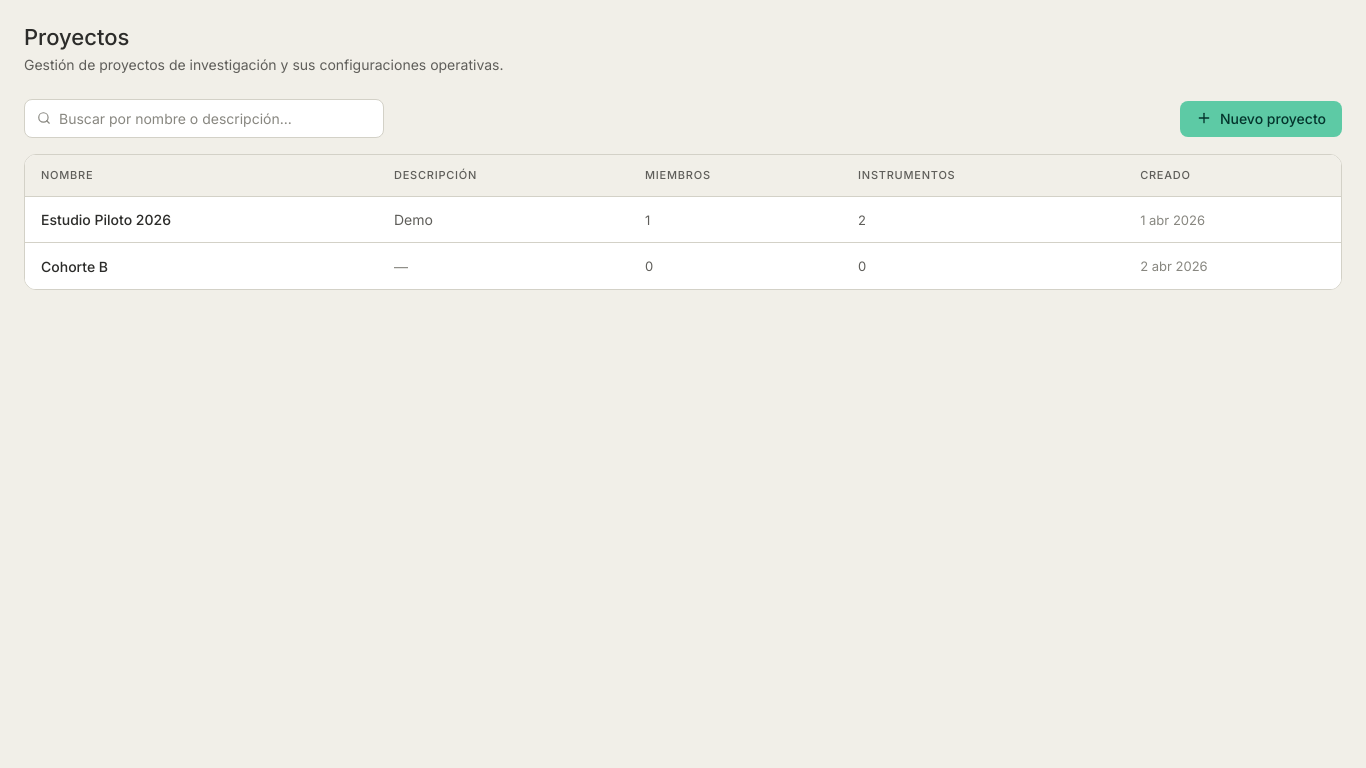
Test: ProjectsPage › POST 400 → muestra error, modal no cierra
expect the text "Estudio Piloto 2026" is shown: met, box top-left (41, 211), bottom-right (171, 228)
Click the button "Nuevo proyecto".
click(1261, 119)  # box top-left (1180, 101), bottom-right (1342, 137)
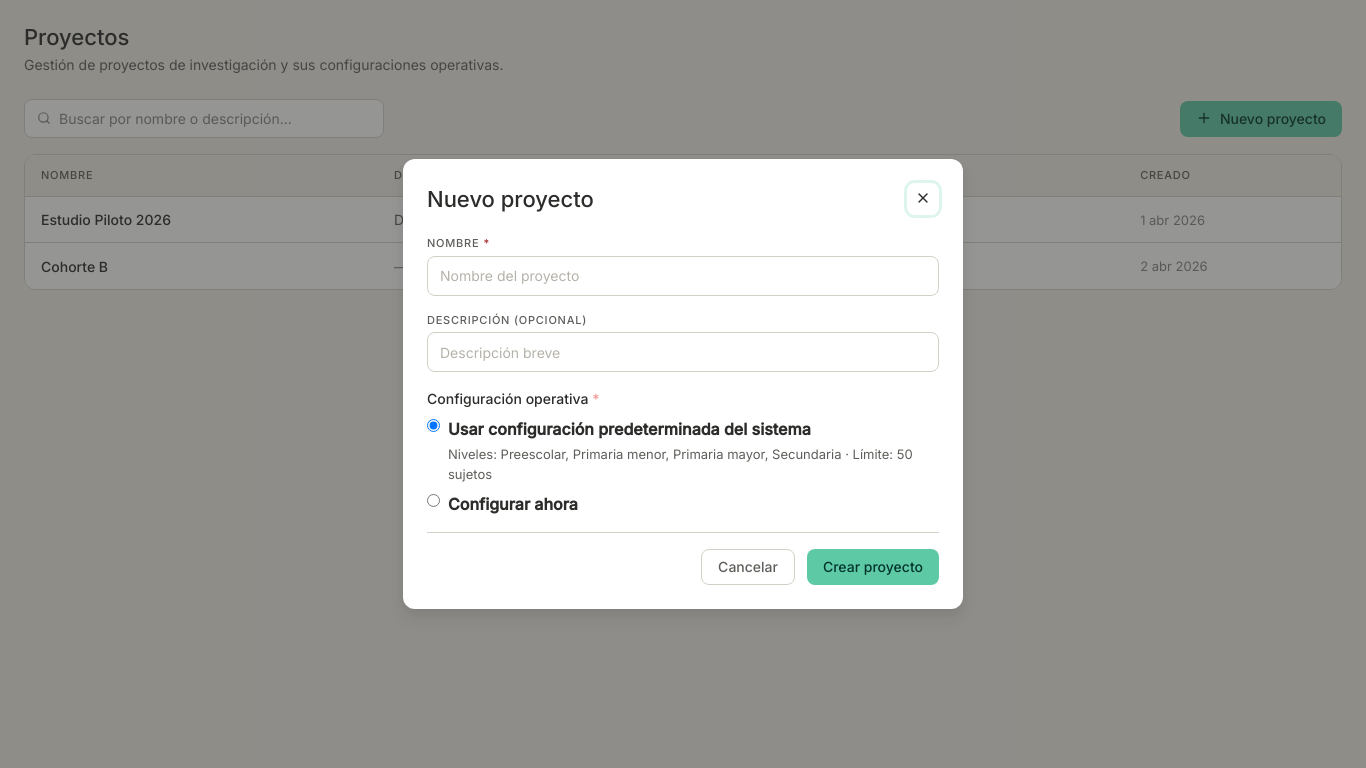
expect the dialog is shown: met, box top-left (403, 159), bottom-right (963, 609)
Type "X" into the field labelled "Nombre*".
click(683, 276); type("X")  # box top-left (427, 256), bottom-right (939, 296)
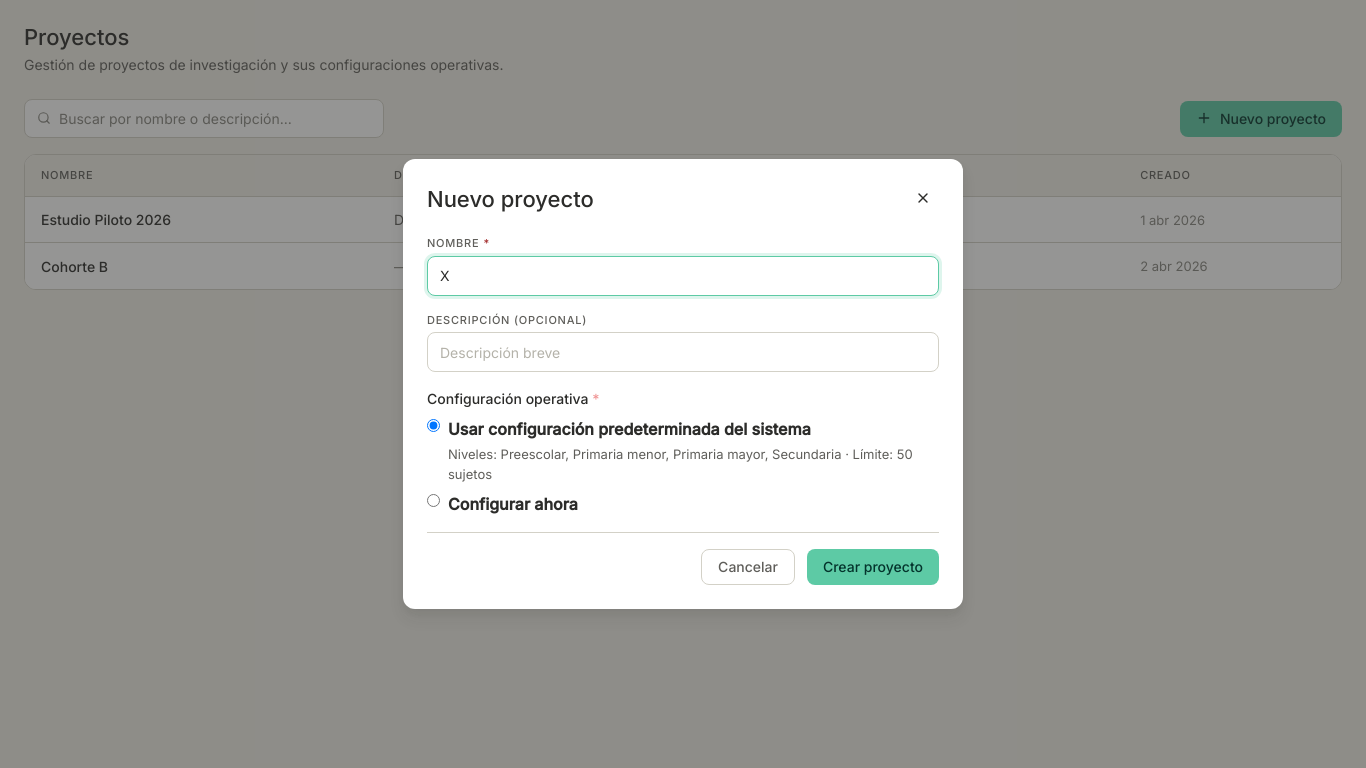
Click the radio button labelled "Usar configuración predeterminada".
click(434, 426)  # box top-left (427, 419), bottom-right (440, 432)
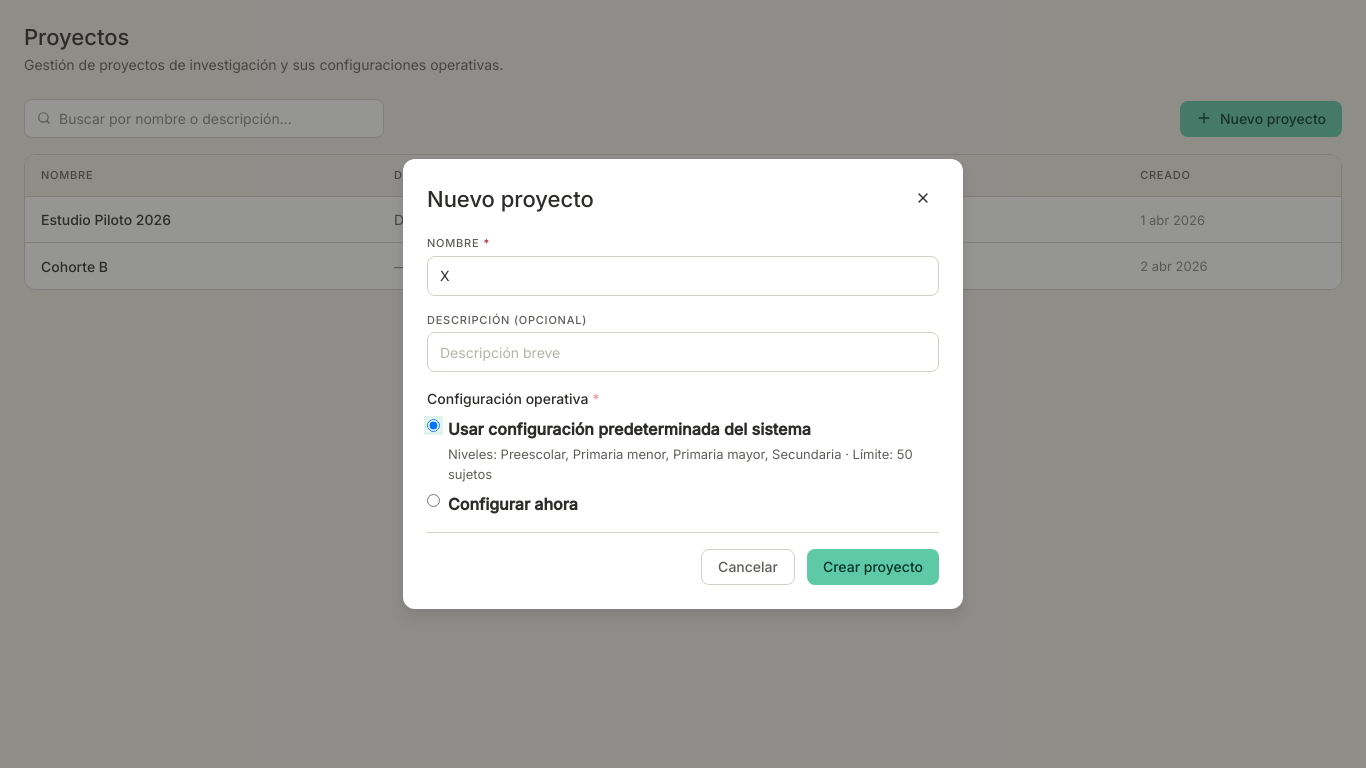
Click the button "Crear proyecto".
click(873, 567)  # box top-left (807, 549), bottom-right (939, 585)
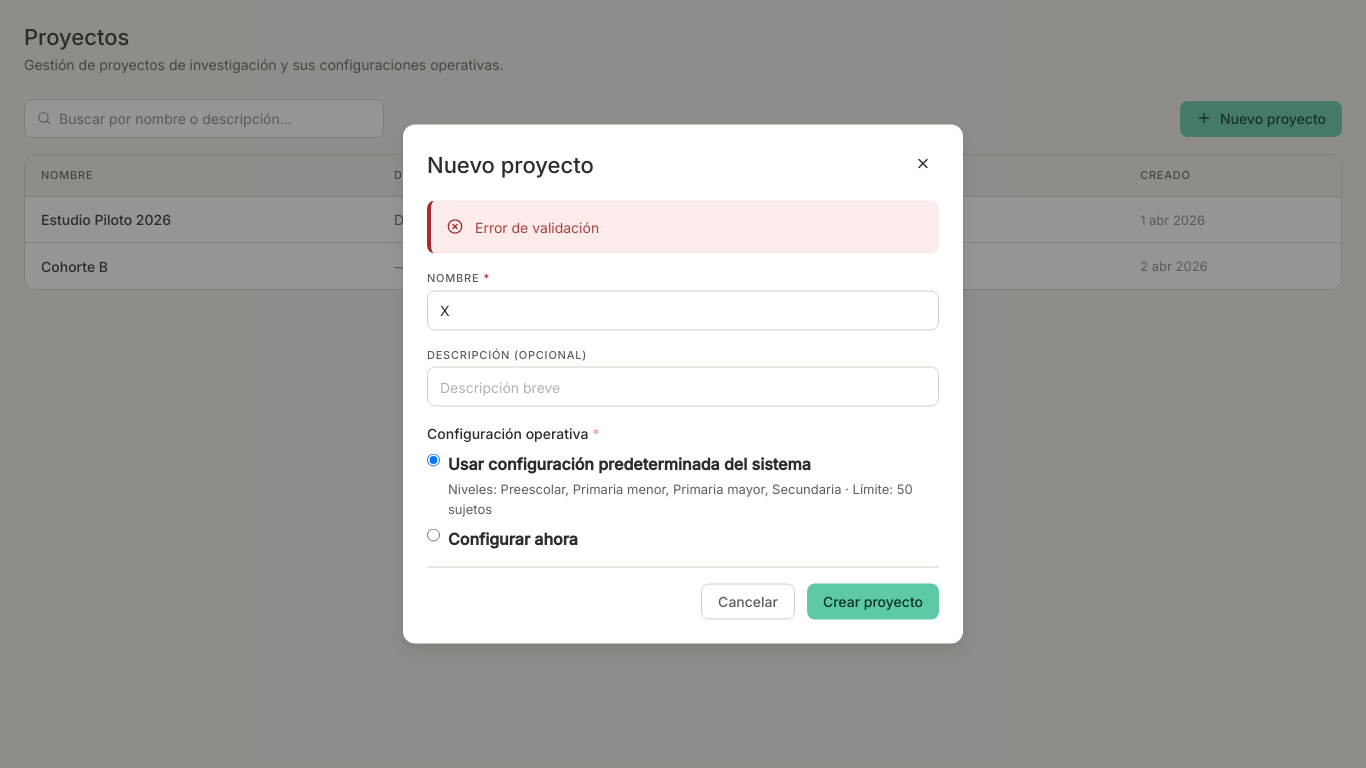
expect the dialog is shown: met, box top-left (403, 124), bottom-right (963, 644)
expect the text "Error de validación" is shown: met, box top-left (475, 218), bottom-right (599, 236)
